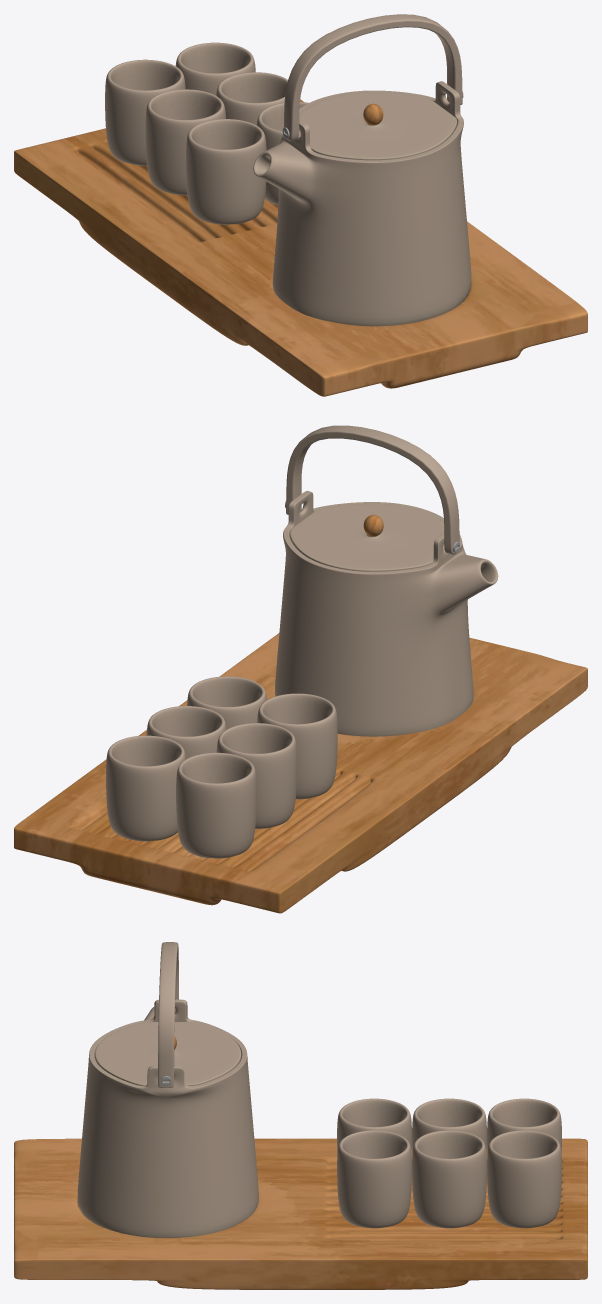
File: teapot.glb
The picture shows the model from 3 angles, top to bottom: view 1: azimuth 30°, elevation 25°; view 2: azimuth 150°, elevation 25°; view 3: azimuth 270°, elevation 25°; orthographic projection. The views are drawn at different scales.
Visible parts, largest first — view 1: Tray_Tray wood_0, Kettle_Kettle Ceramic_0, Cups_Cup Ceramic_0, Lid.001_Lid Ceramic_0; view 2: Tray_Tray wood_0, Kettle_Kettle Ceramic_0, Cups_Cup Ceramic_0, Lid.001_Lid Ceramic_0; view 3: Tray_Tray wood_0, Kettle_Kettle Ceramic_0, Cups_Cup Ceramic_0, Lid.001_Lid Ceramic_0.
Boxes of the visible parts, x1,y1,x2,y2 form: Tray_Tray wood_0: (14, 99, 587, 396); Kettle_Kettle Ceramic_0: (253, 14, 471, 326); Cups_Cup Ceramic_0: (105, 42, 308, 224); Lid.001_Lid Ceramic_0: (299, 92, 457, 160); Tray_Tray wood_0: (14, 633, 587, 913); Kettle_Kettle Ceramic_0: (275, 425, 498, 736); Cups_Cup Ceramic_0: (106, 676, 337, 858); Lid.001_Lid Ceramic_0: (290, 503, 444, 571); Tray_Tray wood_0: (14, 1138, 587, 1289); Kettle_Kettle Ceramic_0: (77, 942, 258, 1237); Cups_Cup Ceramic_0: (337, 1098, 561, 1228); Lid.001_Lid Ceramic_0: (95, 1022, 241, 1085).
Bounding box in the file's own units: 0.25 × 0.2632 × 0.5.
6 materials, 5 textured.
